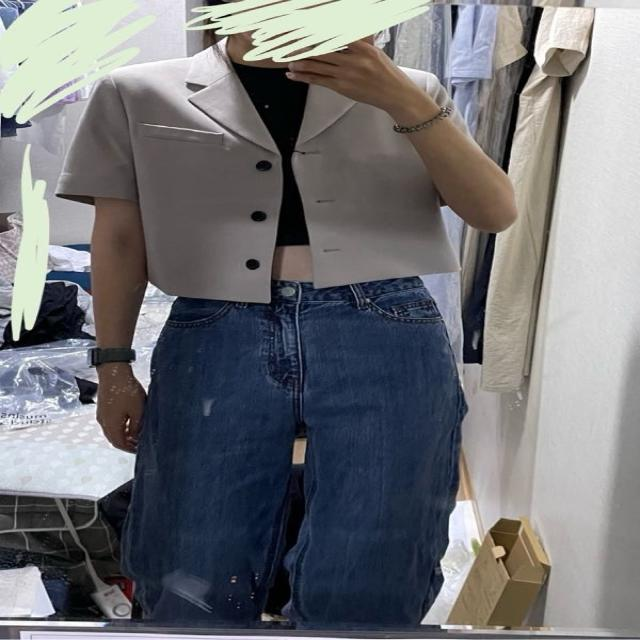blazer: (49, 39, 456, 306)
denimpants: (126, 271, 473, 640)
